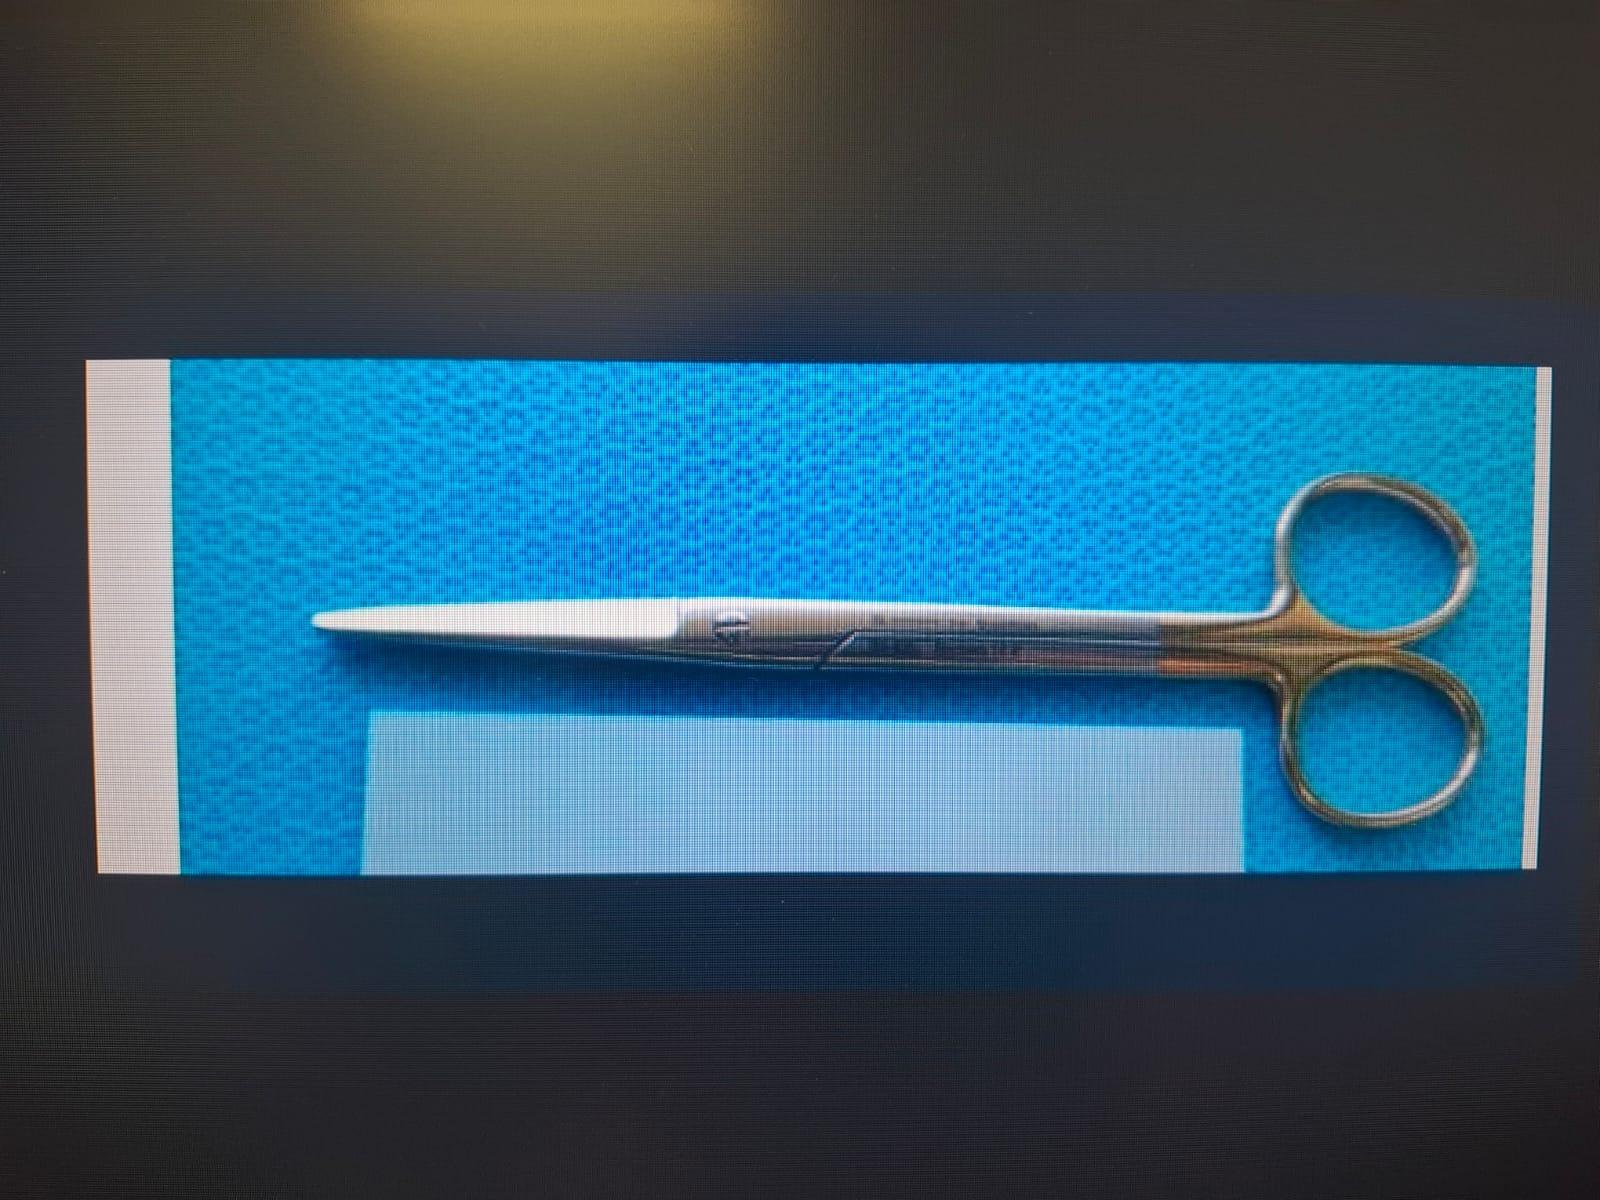Straight Mayo: (299, 464, 1490, 839)
